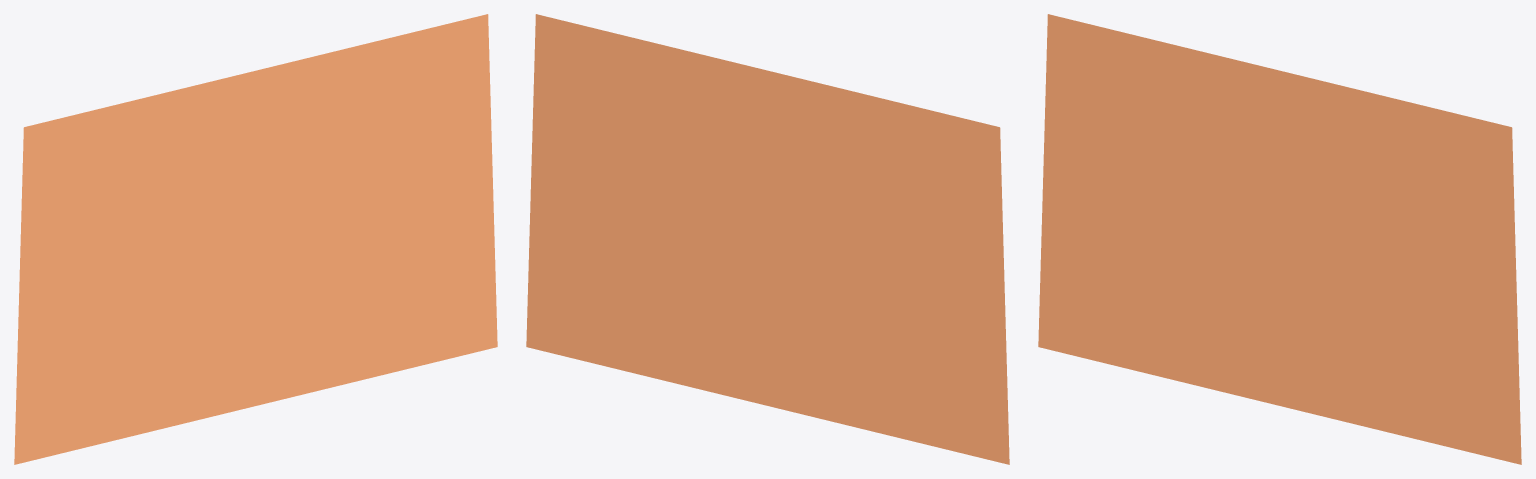
Rendered from morph-target.glb.
The picture shows the model from 3 angles, left to right: view 1: azimuth 30°, elevation 25°; view 2: azimuth 150°, elevation 25°; view 3: azimuth 330°, elevation 25°; orthographic projection.
Visible parts, largest first — view 1: MorphTargetBaseMeshNode; view 2: MorphTargetBaseMeshNode; view 3: MorphTargetBaseMeshNode.
Boxes of the visible parts, x1,y1,x2,y2 form: MorphTargetBaseMeshNode: [14, 14, 497, 464]; MorphTargetBaseMeshNode: [526, 14, 1009, 464]; MorphTargetBaseMeshNode: [1038, 14, 1521, 464].
Size of the model in its own units: 1.58 by 1.04 by 0.
